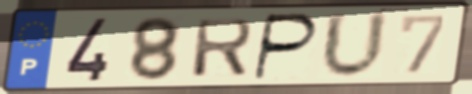4: (63, 16, 112, 85)
7: (397, 13, 449, 77)
8: (125, 14, 184, 85)
P: (250, 12, 322, 83)
R: (189, 16, 257, 80)
U: (318, 9, 392, 82)
